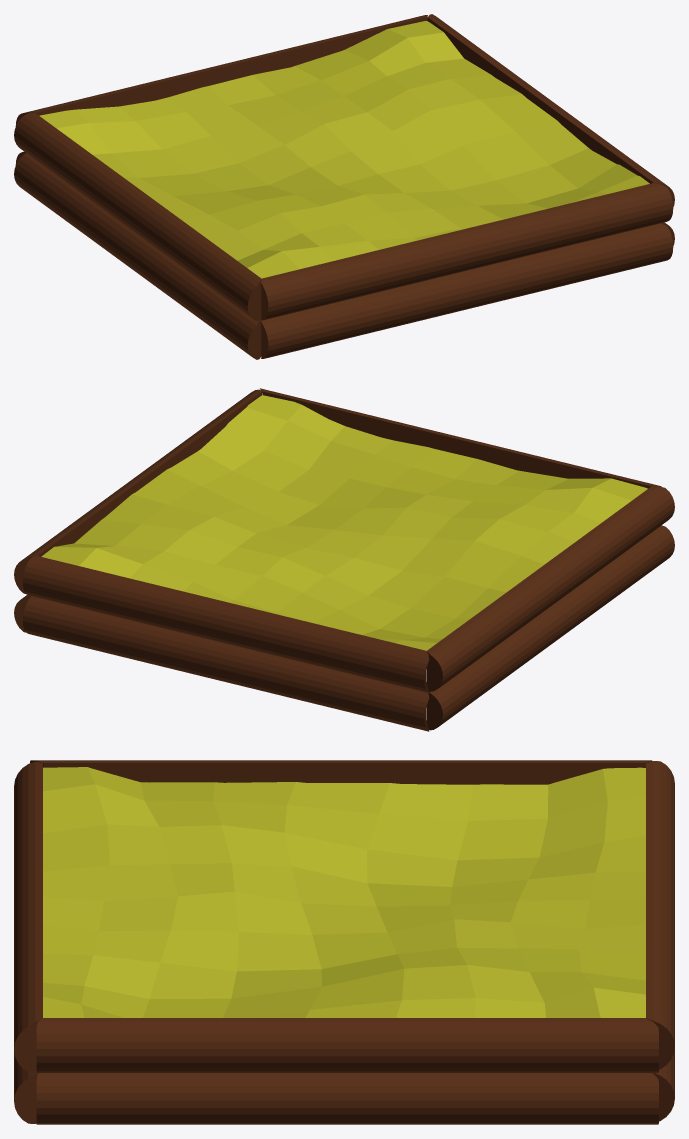
File: piaskownica.fbx
3 renders of one model, top to bottom at view 1: azimuth 30°, elevation 25°; view 2: azimuth 150°, elevation 25°; view 3: azimuth 270°, elevation 25°, orthographic. The views are drawn at different scales.
Parts seen in each view (by area): view 1: Cylinder.005; view 2: Cylinder.005; view 3: Cylinder.005.
Part boxes in pixels (x1=…): Cylinder.005: x1=14, y1=14, x2=674, y2=359; Cylinder.005: x1=14, y1=388, x2=674, y2=731; Cylinder.005: x1=14, y1=760, x2=674, y2=1124.
Size of the model in its own units: 118 by 21.41 by 118.
